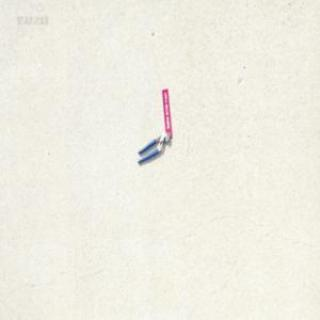LuggageTagtrack_idkeyframe: (160, 87, 172, 139)
Pliertrack_idkeyframe: (136, 130, 169, 163)
